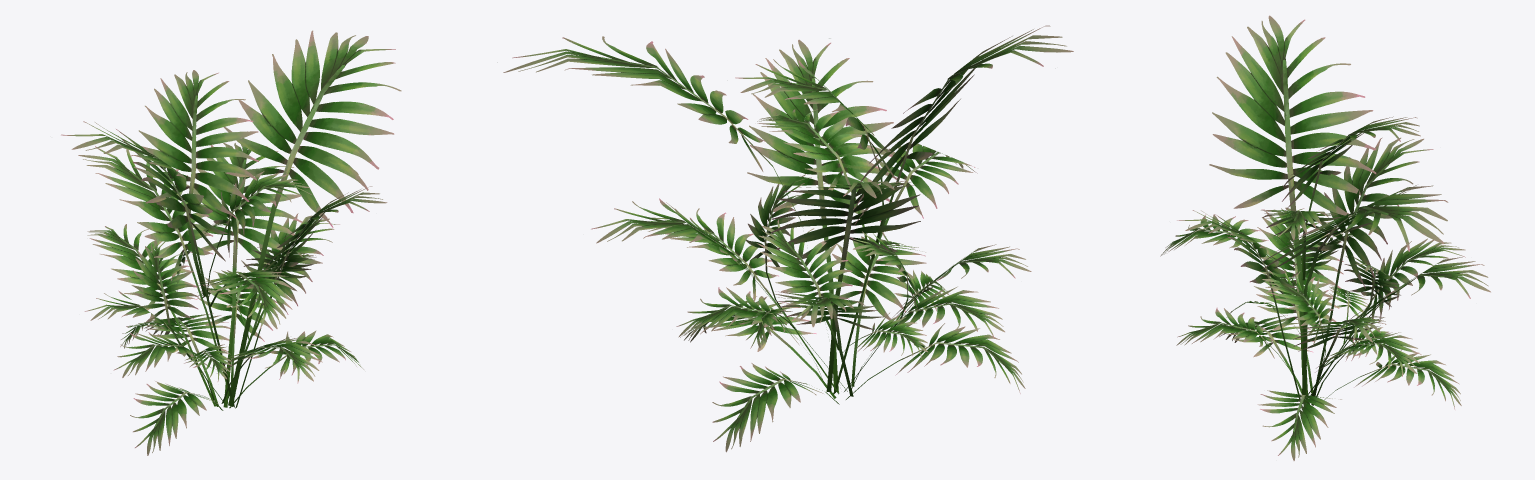
Rendered from PalorpalmBush.fbx.
The picture shows the model from 3 angles, left to right: view 1: azimuth 30°, elevation 25°; view 2: azimuth 150°, elevation 25°; view 3: azimuth 270°, elevation 25°; orthographic projection. The views are drawn at different scales.
Visible parts, largest first — view 1: PalorpalmBush; view 2: PalorpalmBush; view 3: PalorpalmBush.
Boxes of the visible parts, x1,y1,x2,y2 form: PalorpalmBush: [61, 30, 401, 455]; PalorpalmBush: [497, 25, 1073, 452]; PalorpalmBush: [1160, 15, 1490, 460].
Size of the model in its own units: 1.33 by 0.9263 by 1.01.
1 material, 1 textured.
